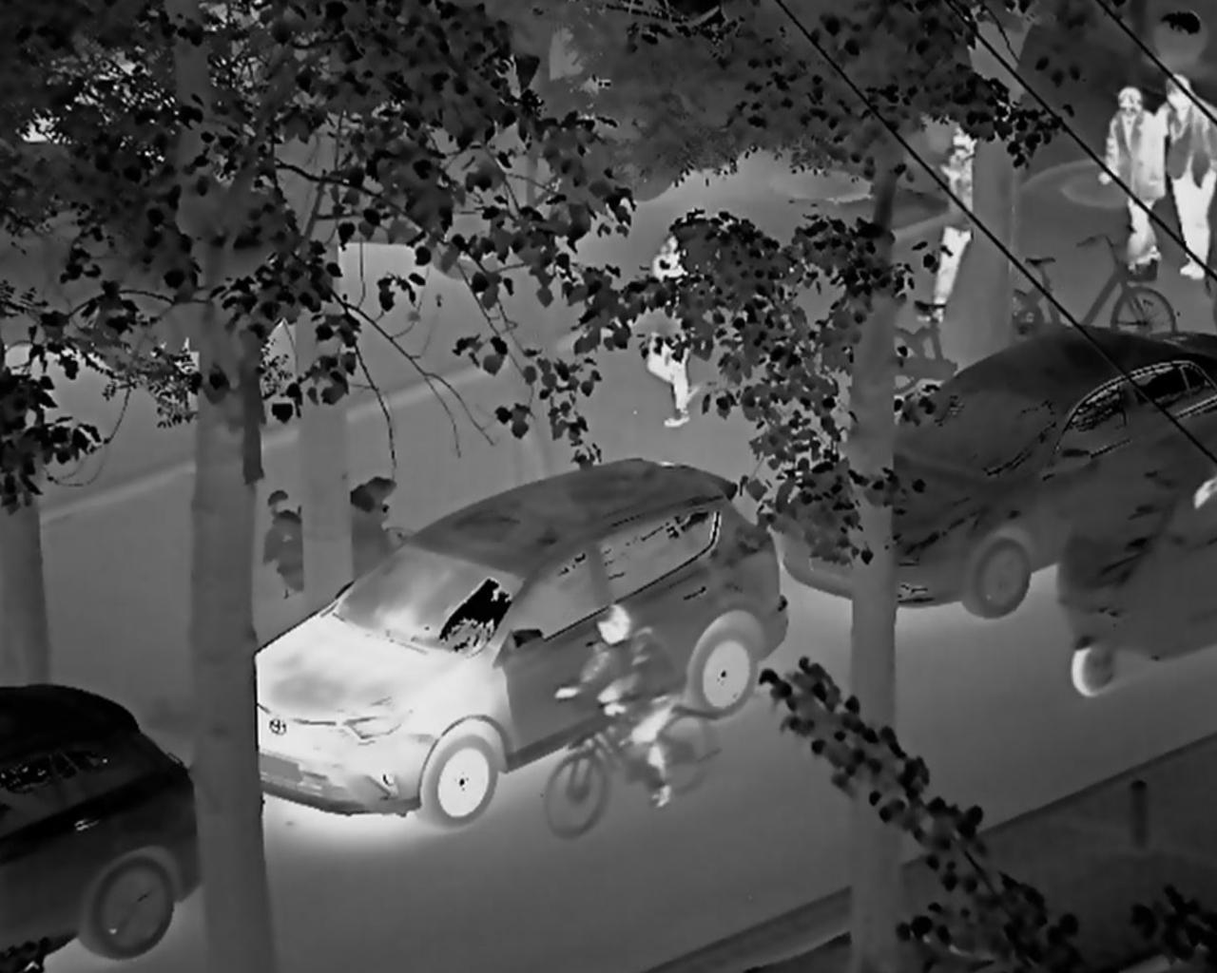person: (564, 604, 666, 801), (1141, 67, 1217, 290), (1096, 66, 1166, 278), (941, 97, 1001, 323), (642, 234, 703, 420)
